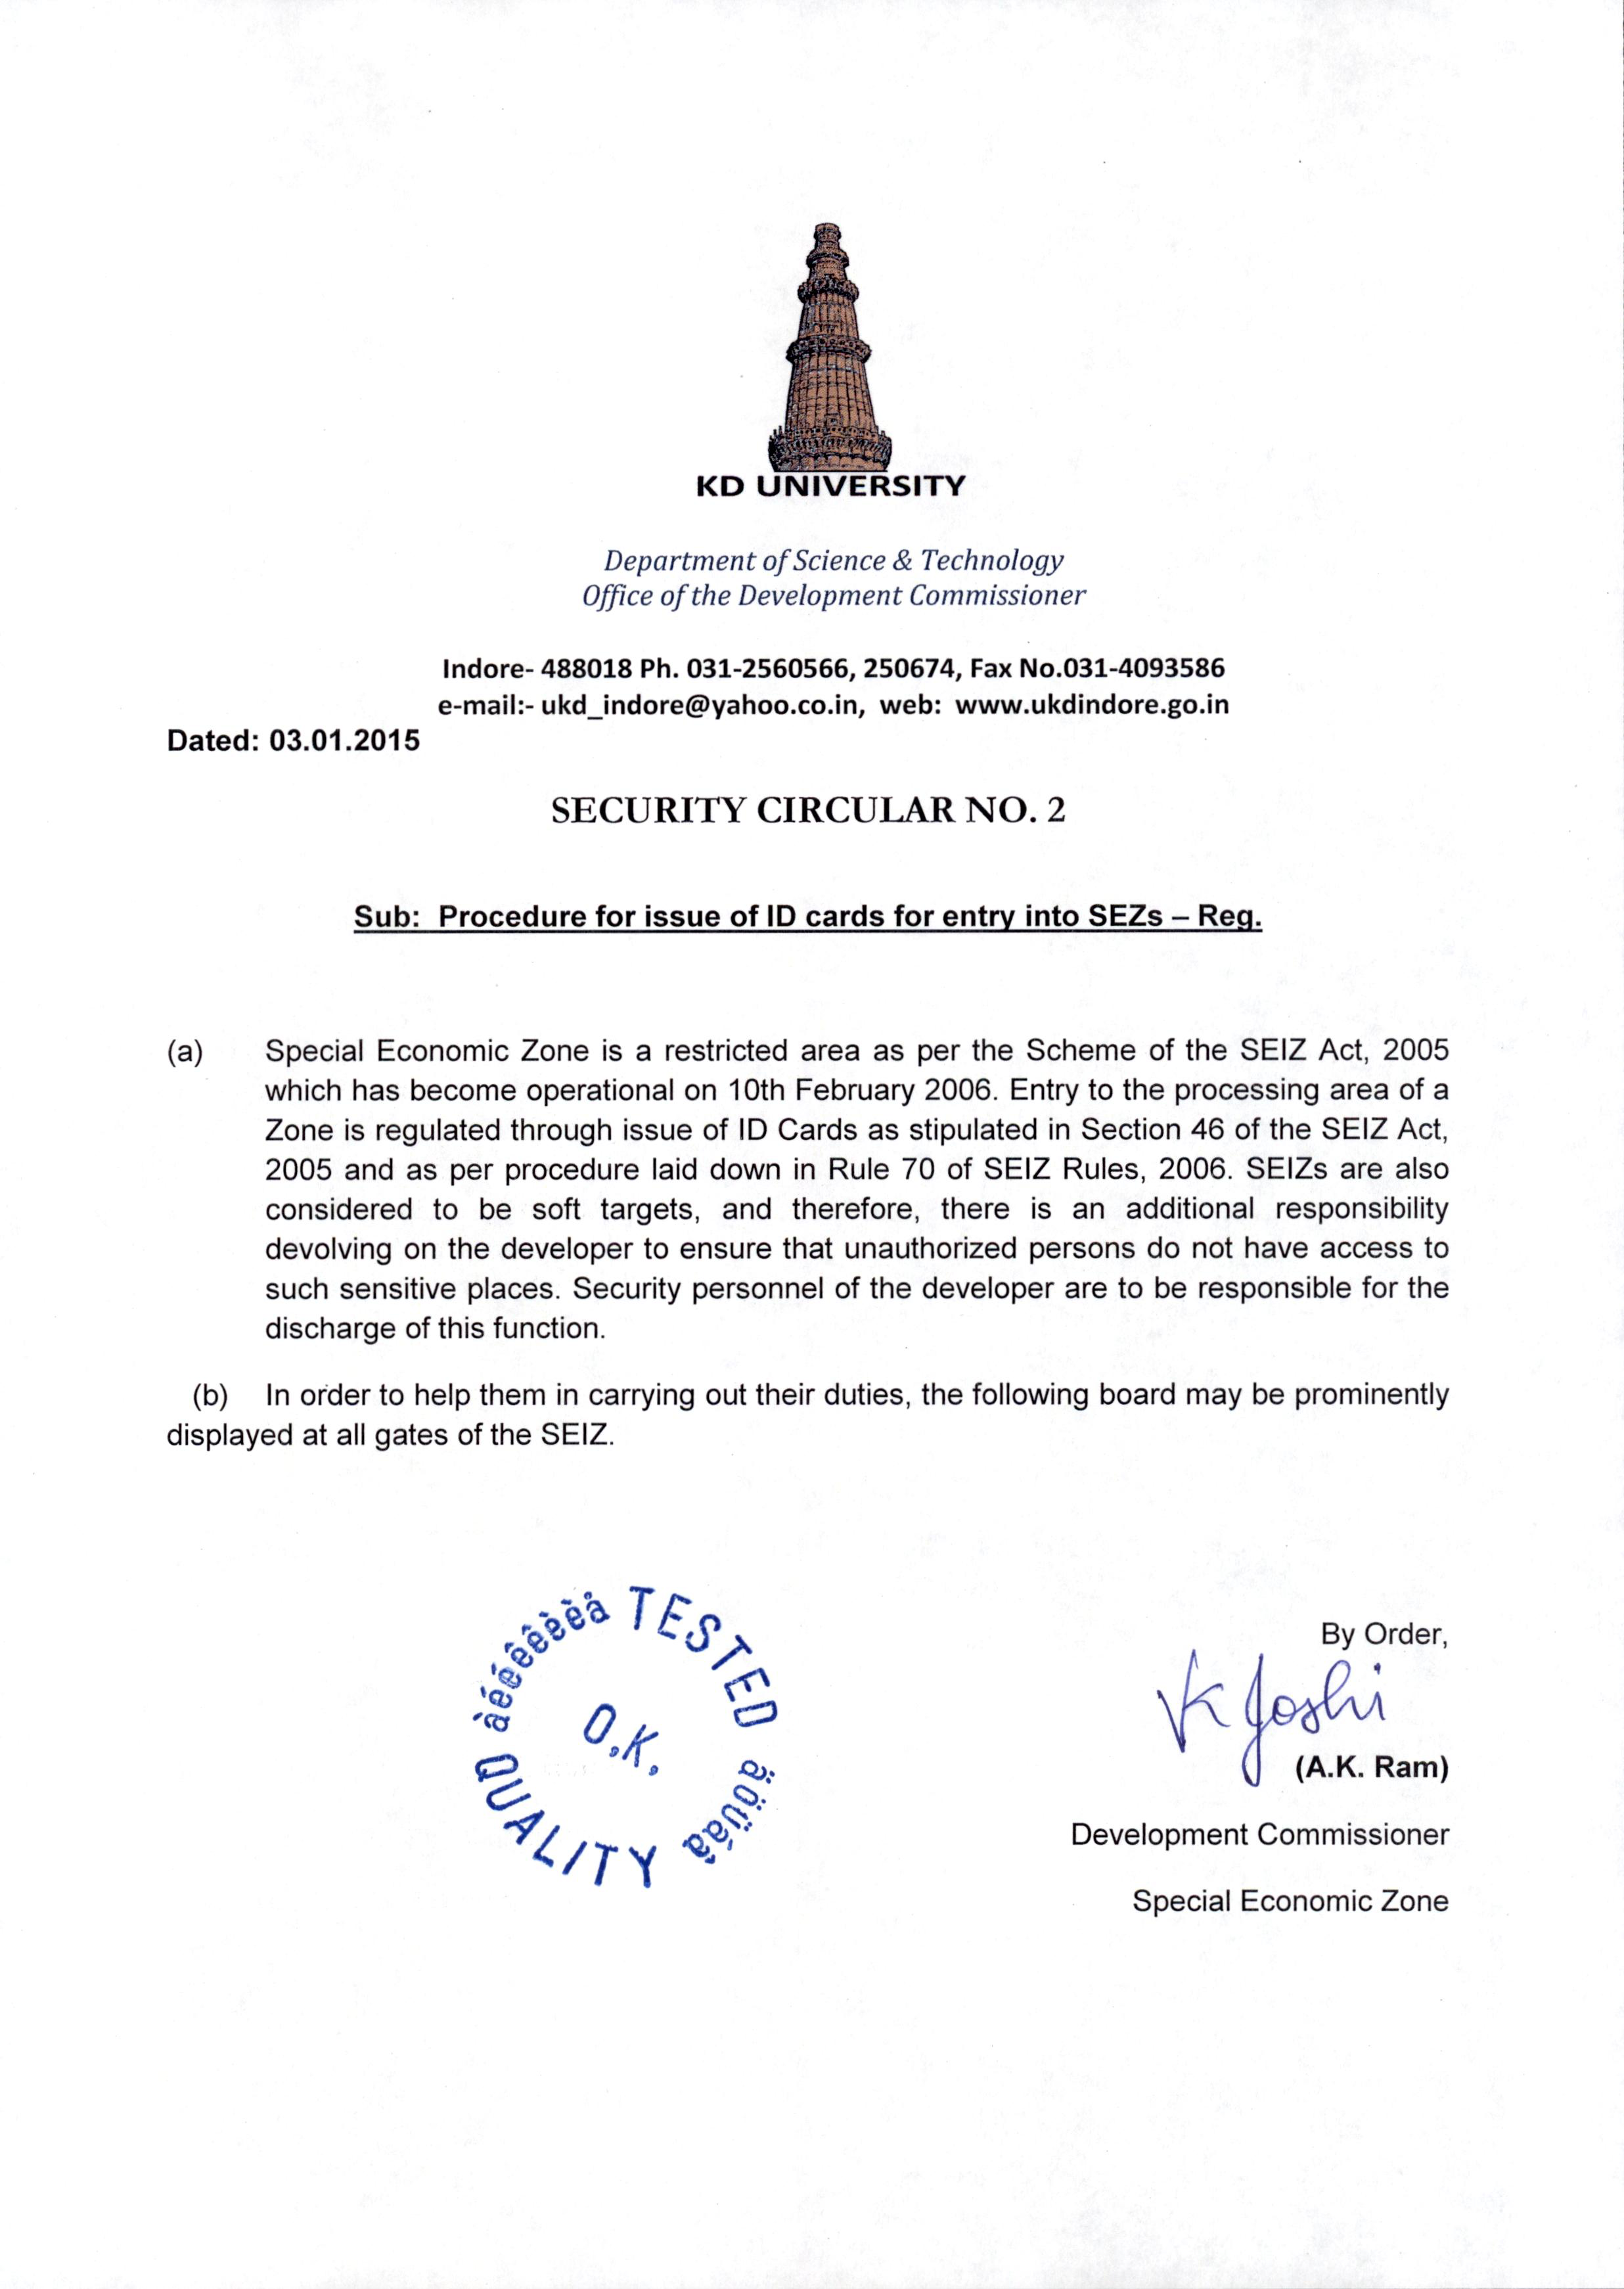Signature: (1146, 1642, 1396, 1762)
